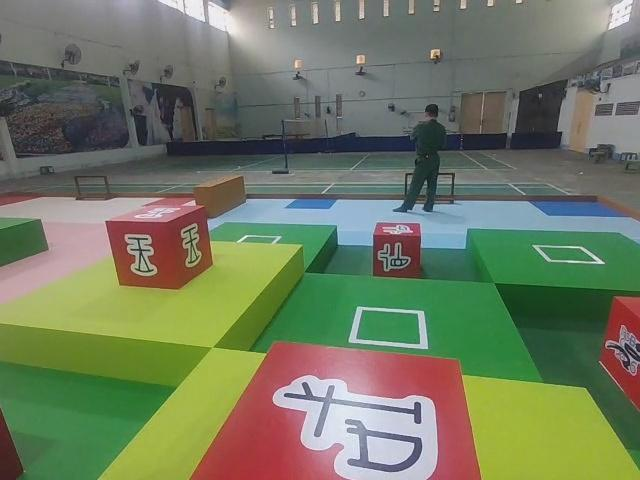R2 Real: (191, 341, 483, 480), (105, 205, 214, 290), (374, 220, 420, 278)
